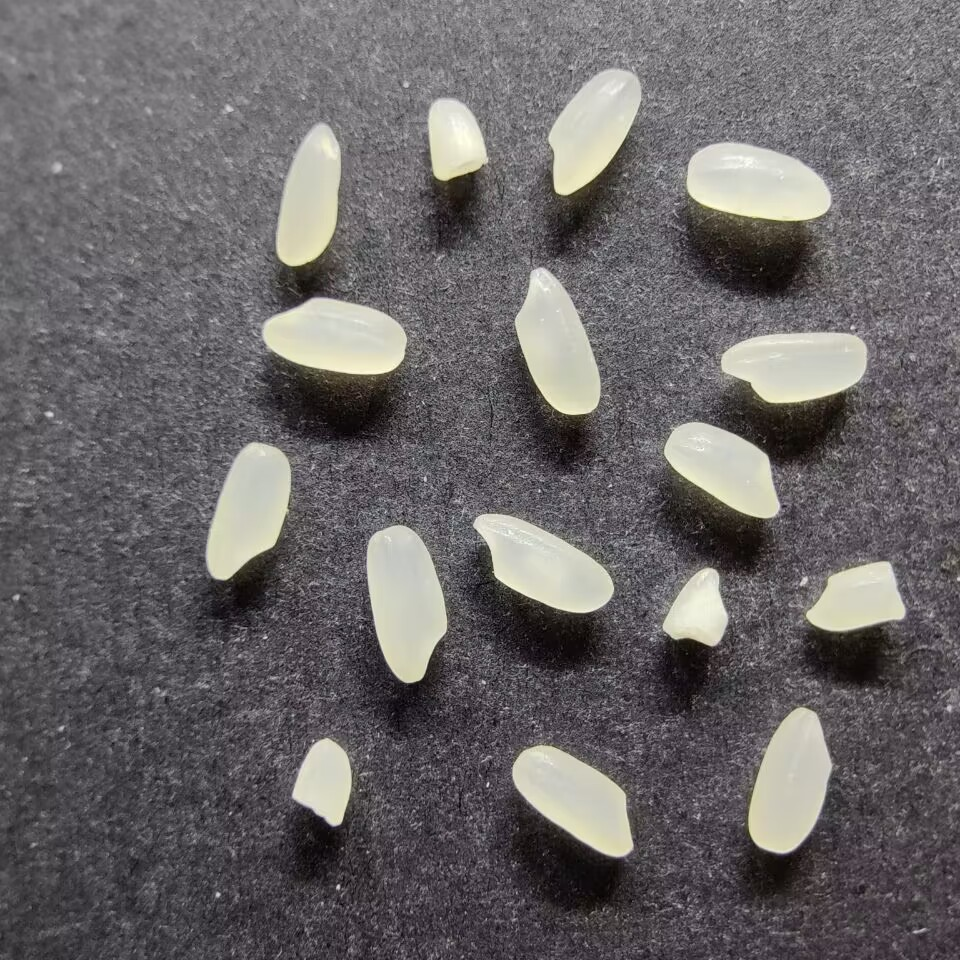broken: (805, 559, 908, 633), (290, 738, 351, 826), (662, 566, 729, 646), (427, 97, 488, 180)
rice: (471, 512, 614, 613), (511, 744, 634, 859), (365, 524, 448, 684), (514, 267, 600, 415), (747, 705, 831, 853), (546, 68, 640, 195), (204, 442, 290, 580), (685, 142, 830, 222), (662, 421, 780, 519), (261, 297, 406, 375), (721, 332, 867, 403), (273, 121, 341, 267)
